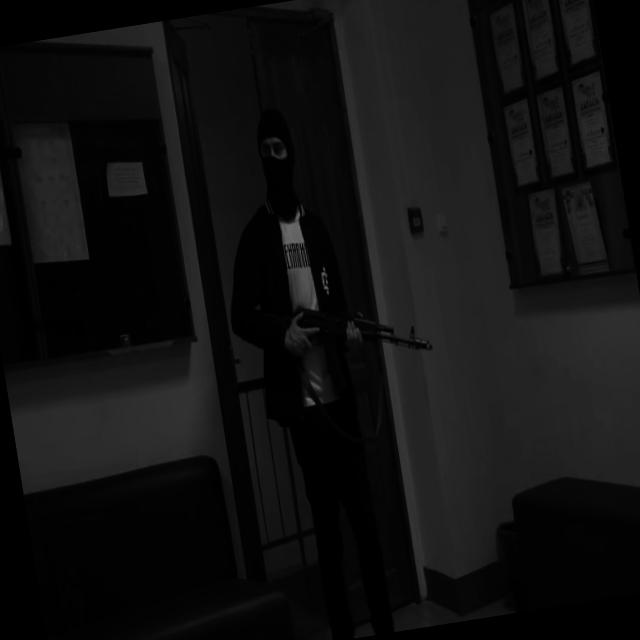gun: (251, 281, 439, 408)
person with a gun: (199, 89, 477, 640)
